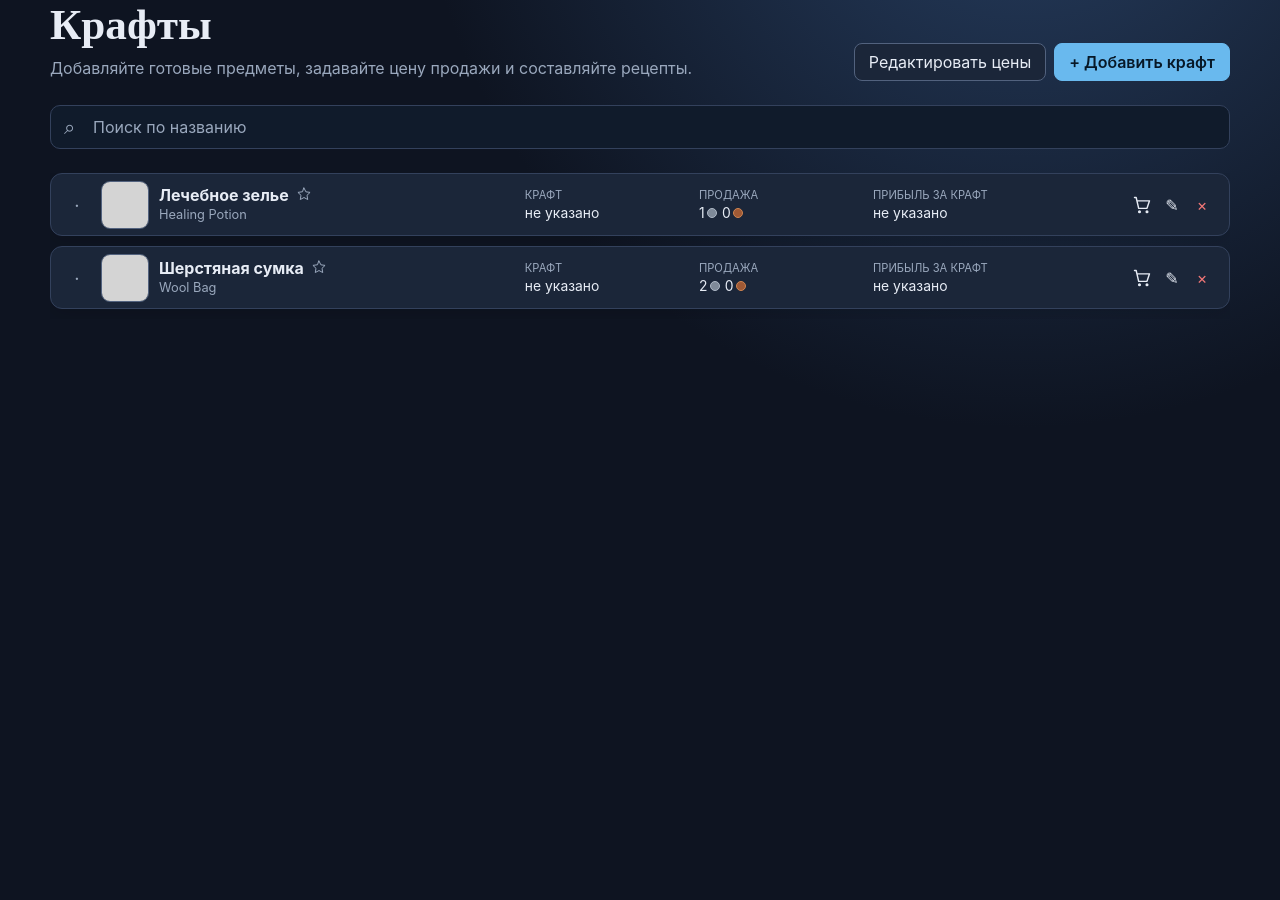
Test: ItemsPage › открывает импорт по умолчанию и сохраняет ручной предмет в разделе crafts
The width and height of the screenshot is (1280, 900).
expect the button "Импорт из Wowhead" is not shown: met
Step 1. Click the button "+ Добавить крафт" → coordinates (1142, 62), box 1054,43 -> 1230,81
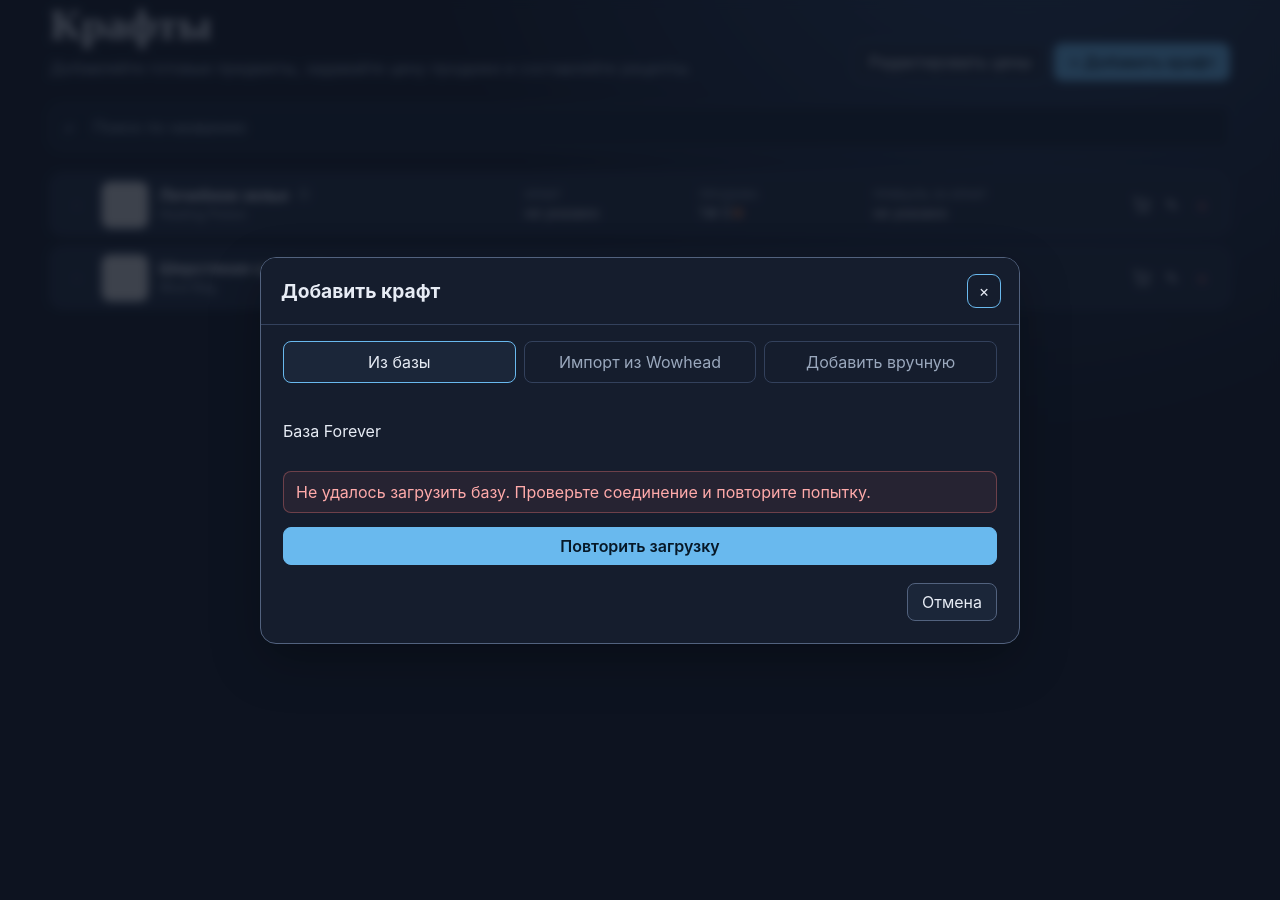
expect the number of dialogs is 1: met, box 260,256 -> 1020,644
expect the text "База Forever" is shown: met, box 283,420 -> 381,440
Step 2. Click the button "Добавить вручную" → coordinates (881, 362), box 764,340 -> 997,382
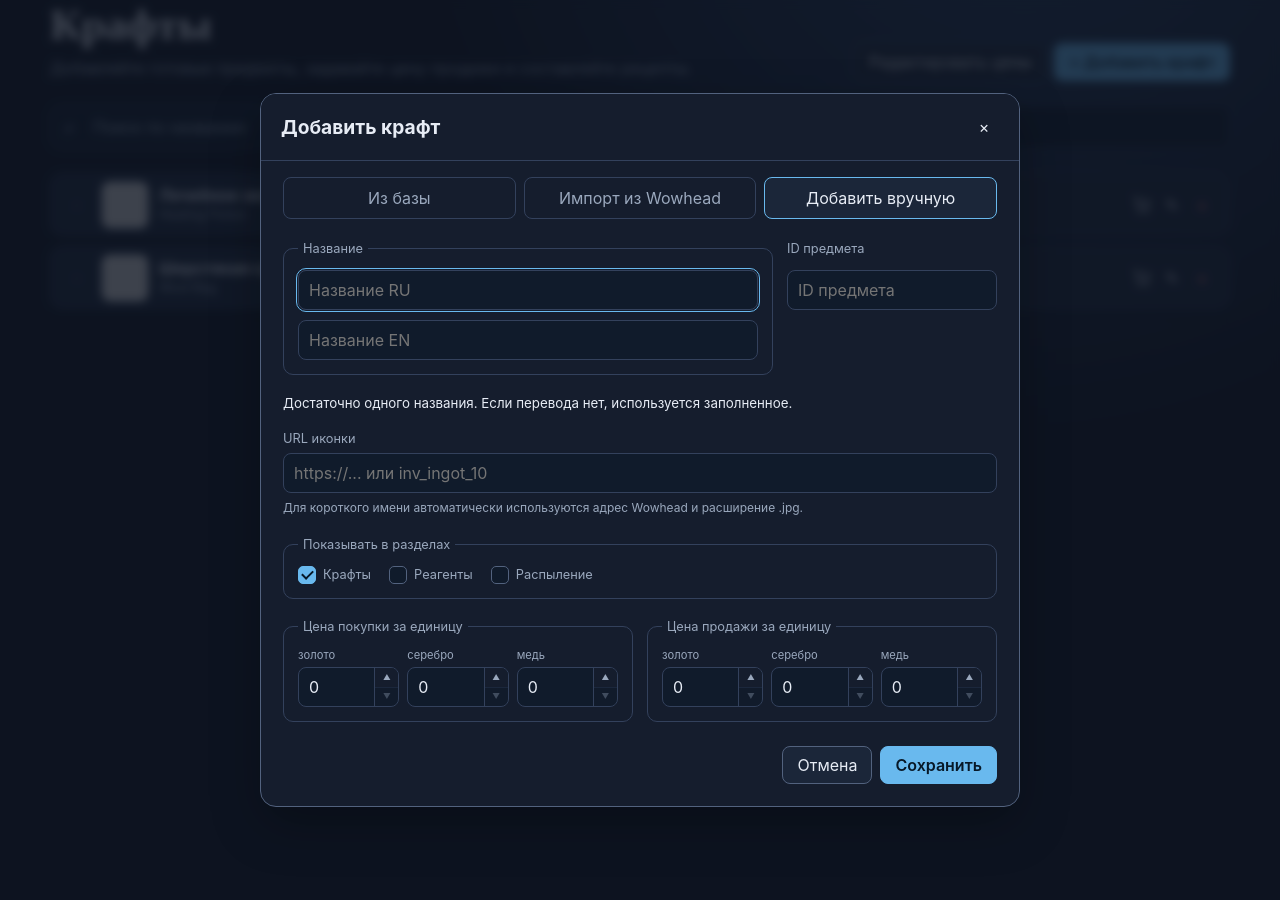
expect the checkbox labelled "Крафты" is checked: met, box 298,566 -> 371,584
expect the checkbox labelled "Реагенты" is not checked: met, box 389,566 -> 473,584
Step 3. Type "Новый предмет" into the field labelled "Название RU" → coordinates (528, 290), box 298,270 -> 758,310
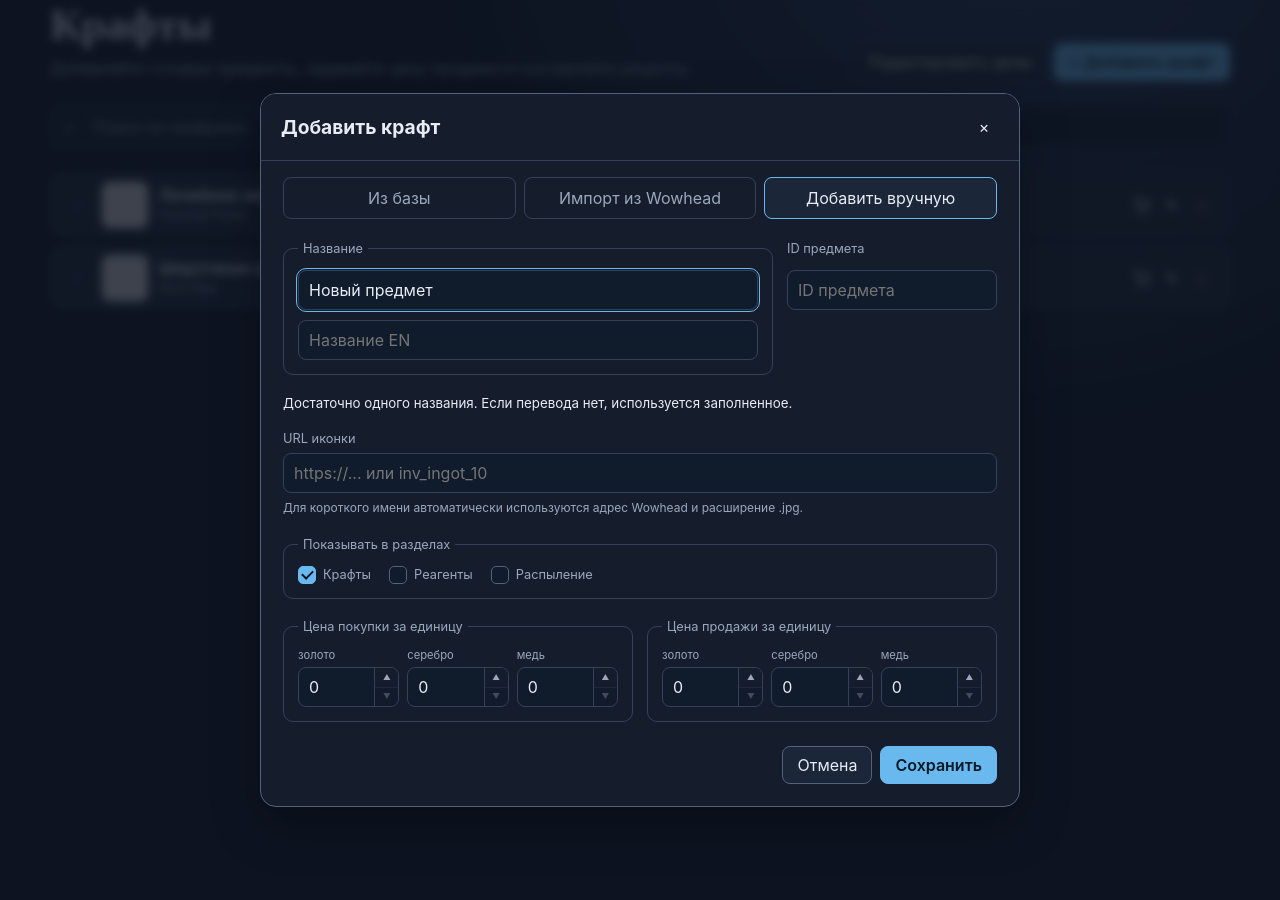
Step 4. Click the button "Сохранить" → coordinates (939, 765), box 880,746 -> 997,784
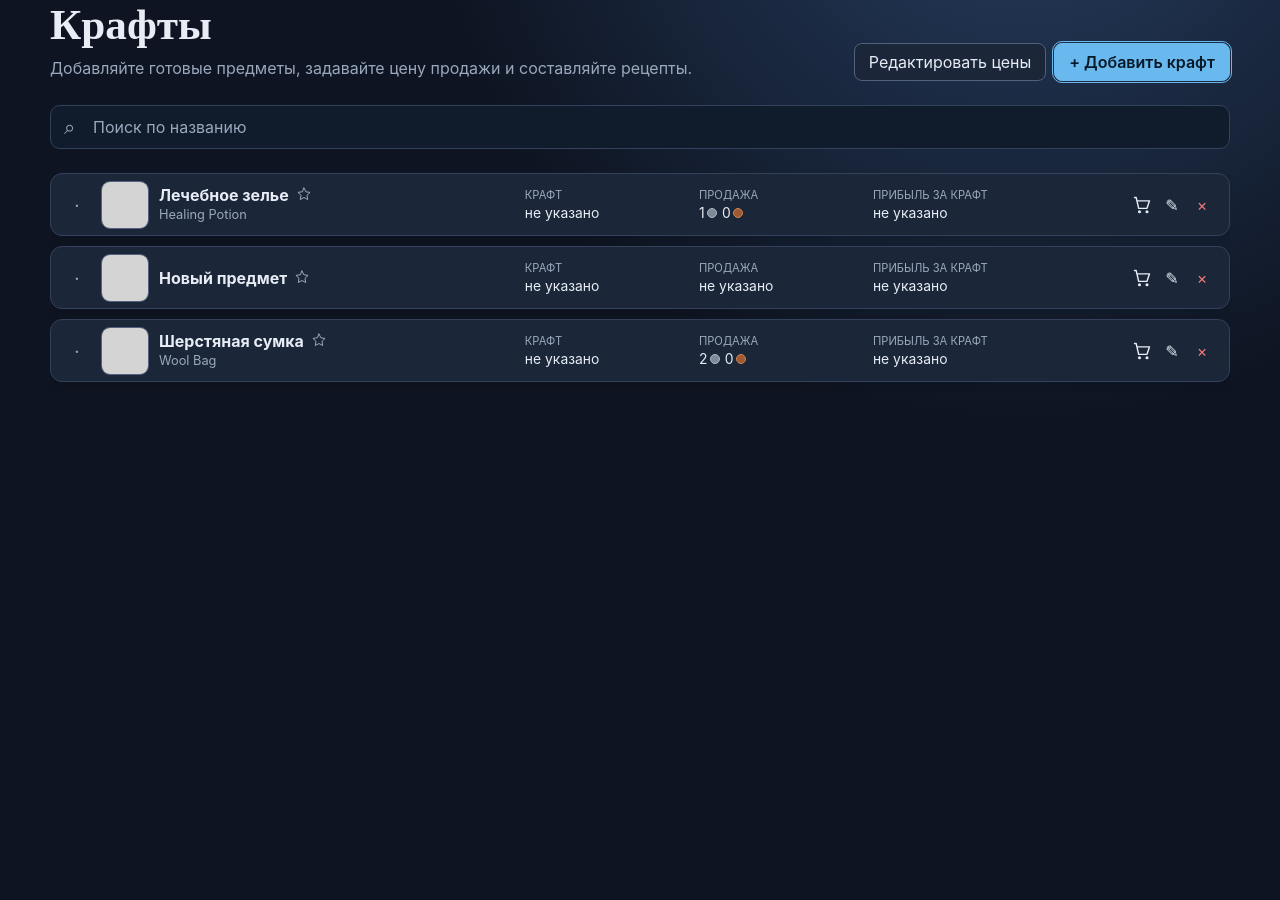
expect the dialog is gone: met
expect the text "Новый предмет" is shown: met, box 159,267 -> 287,287
